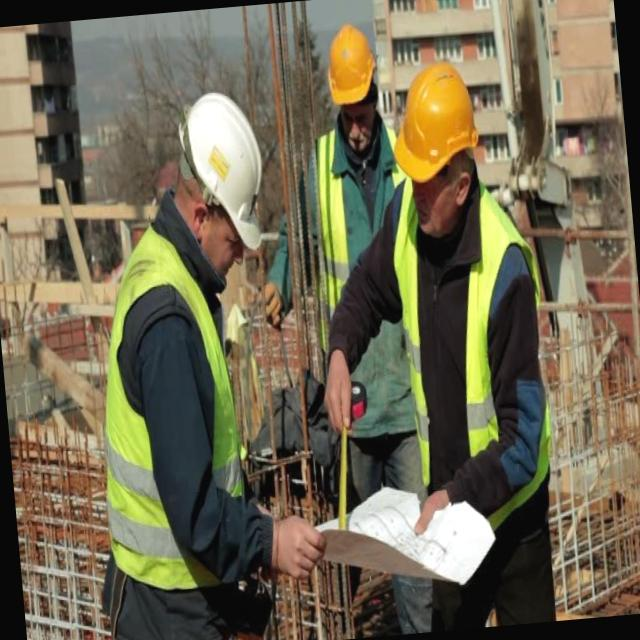helmet: (171, 79, 274, 258), (384, 60, 487, 194), (317, 20, 382, 121)
vest: (89, 227, 262, 588), (391, 186, 557, 512), (311, 134, 407, 363)
